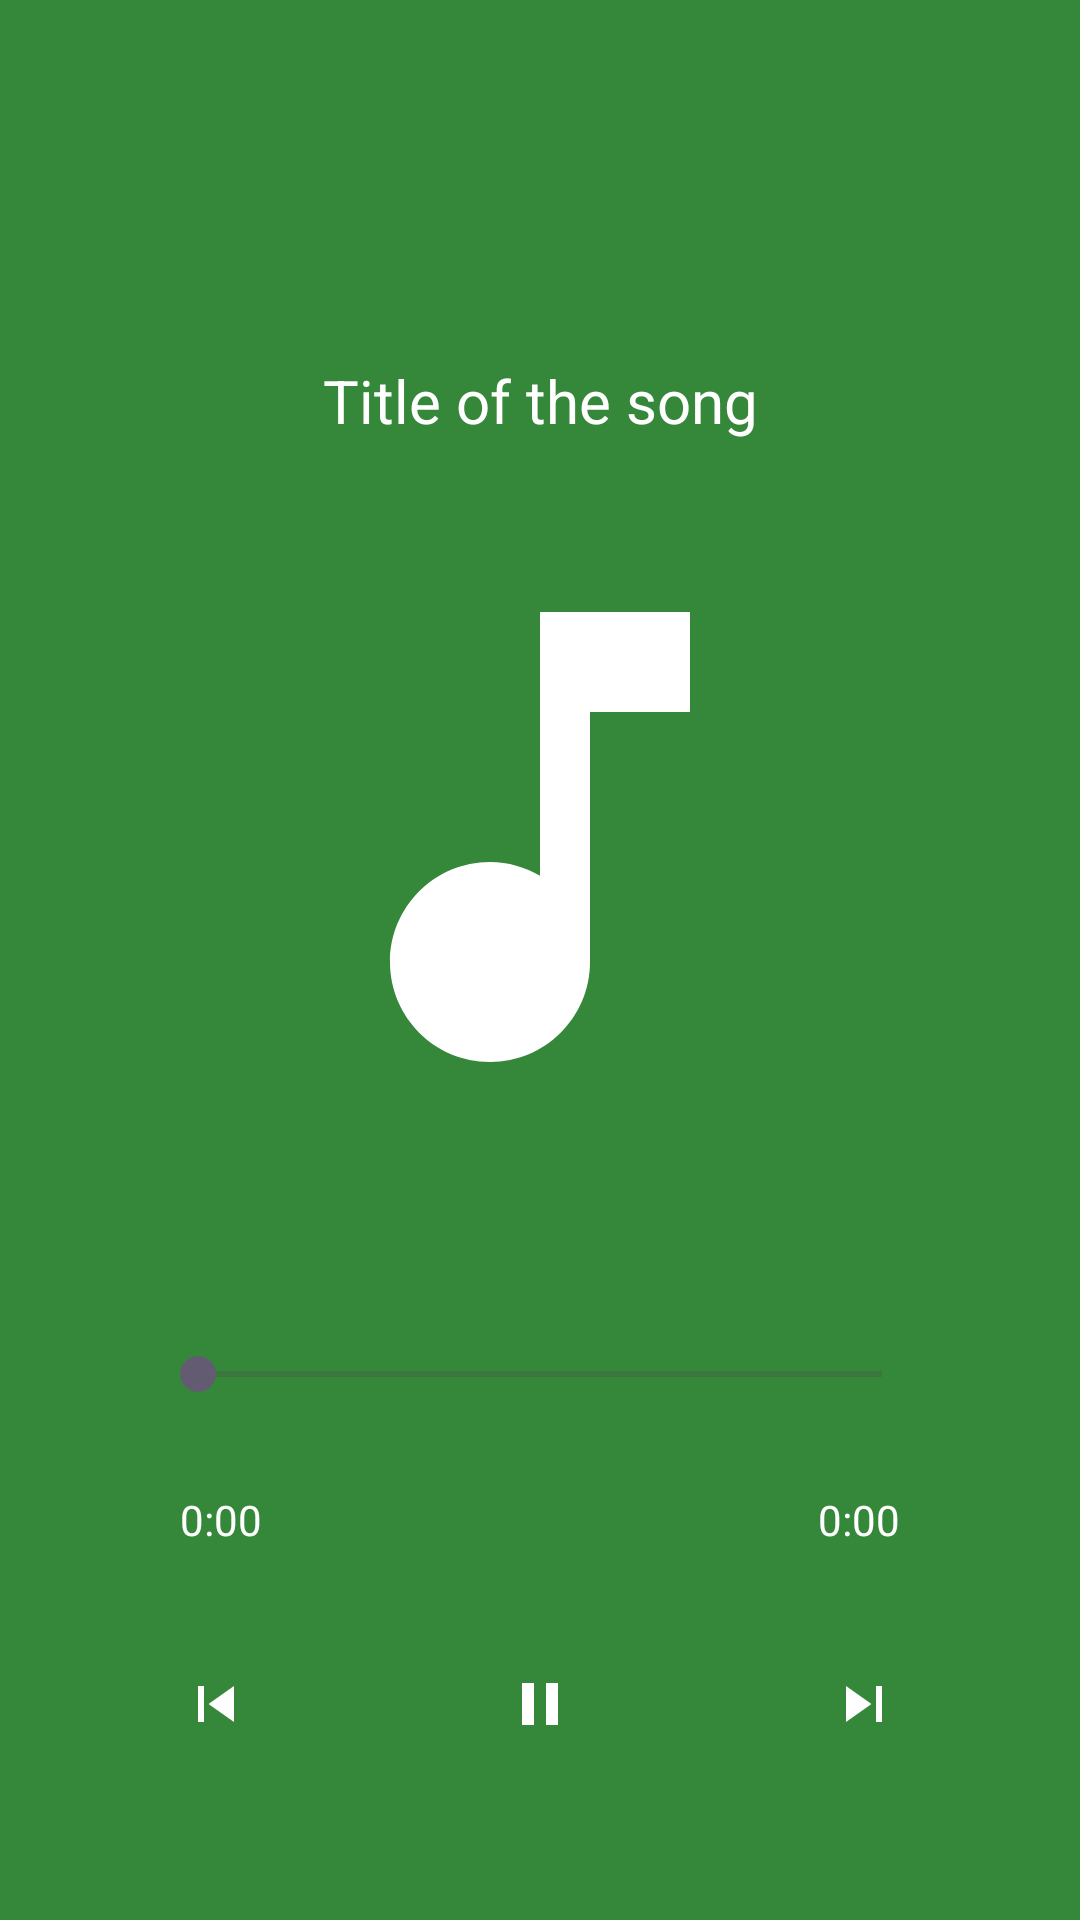

Where icons sit on this 1080 × 1920 app screen, as rect(x1, y1, x2, y2):
pause: rect(522, 1683, 558, 1725)
skip next: rect(846, 1686, 882, 1722)
skip previous: rect(198, 1686, 234, 1722)
